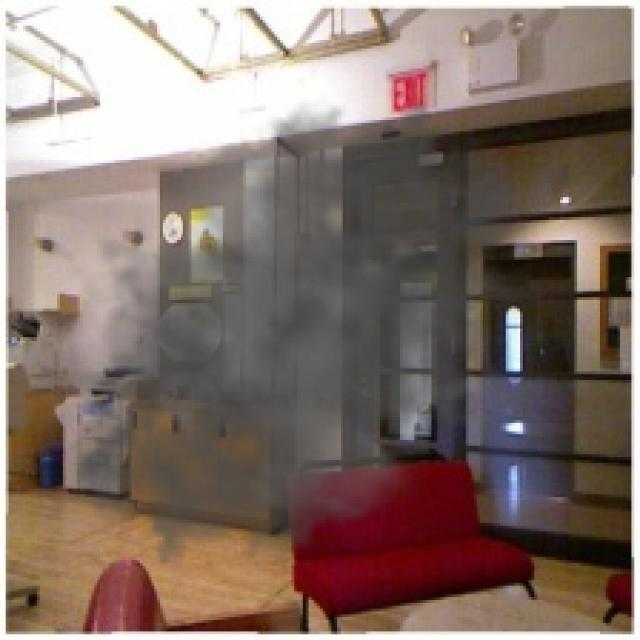smoke: (34, 66, 552, 600)
